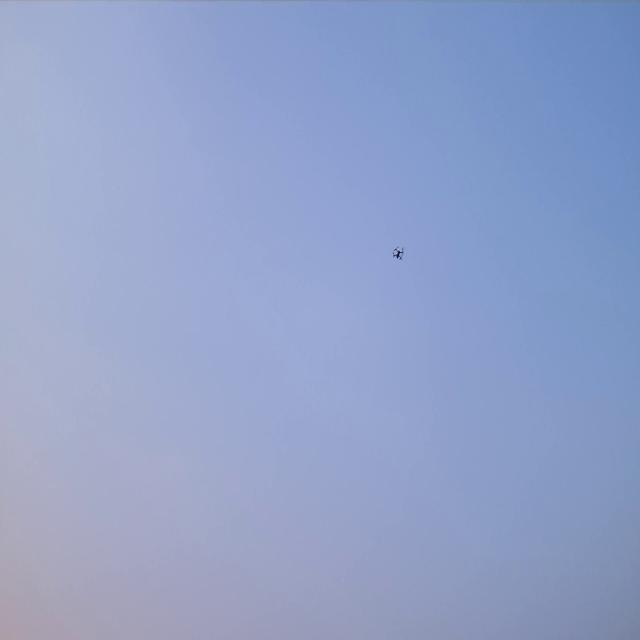UAV: (392, 240, 406, 263)
